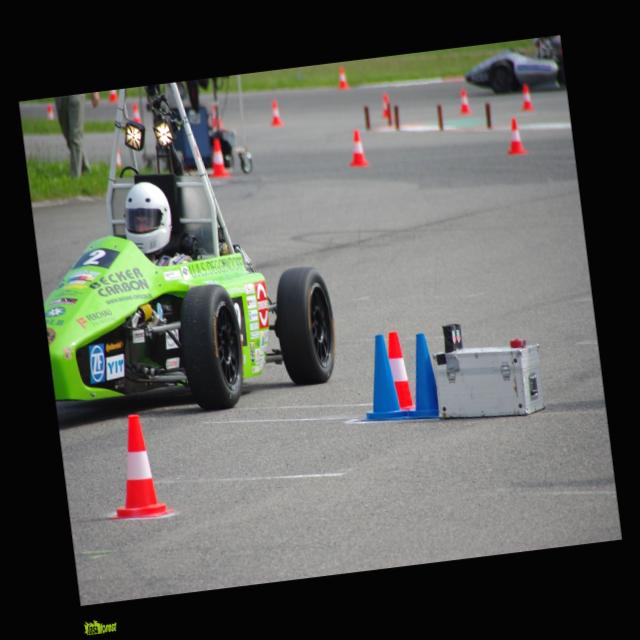blue_cone: (352, 332, 408, 422), (394, 332, 442, 419)
orange_cone: (98, 411, 174, 521), (386, 331, 419, 410), (207, 138, 230, 178), (346, 130, 369, 167), (504, 116, 526, 154), (105, 138, 122, 168), (268, 98, 284, 125), (519, 83, 534, 111), (42, 103, 58, 129), (208, 104, 224, 128), (456, 88, 470, 114), (379, 93, 393, 118), (129, 102, 142, 125), (337, 66, 349, 88), (107, 89, 118, 102)
